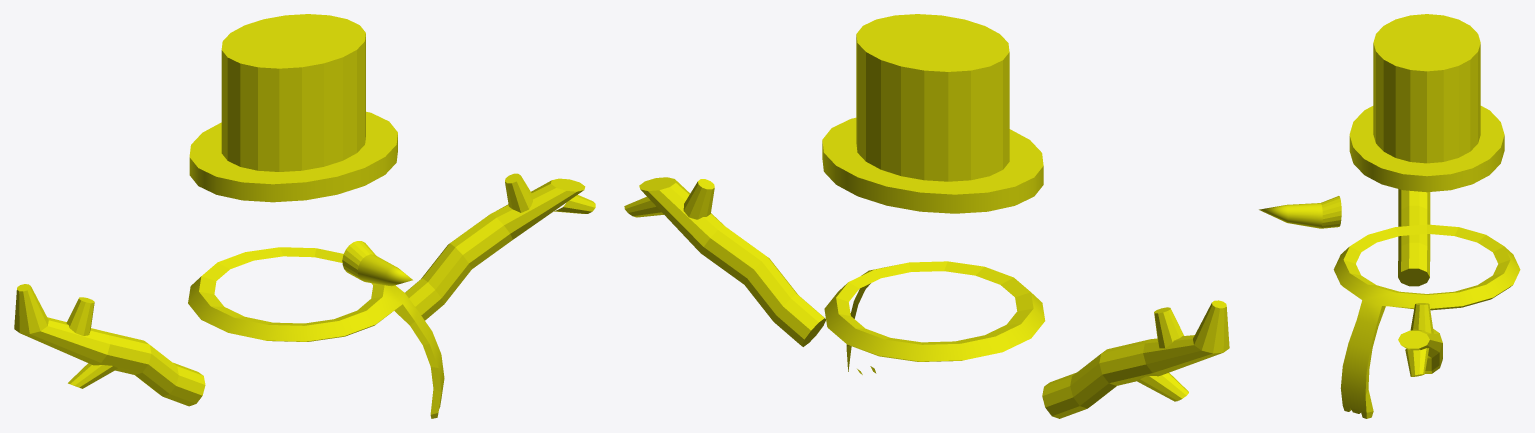
3 views of the same model, side by side, from view 1: azimuth 30°, elevation 25°; view 2: azimuth 150°, elevation 25°; view 3: azimuth 270°, elevation 25° (orthographic). The views are drawn at different scales.
Parts seen in each view (by area): view 1: hat, scarf, hand_R, hand_L, nose; view 2: hat, hand_L, hand_R, scarf; view 3: hat, scarf, hand_R, hand_L, nose.
Boxes of the visible parts, x1,y1,x2,y2 form: hat: [189, 14, 397, 202]; scarf: [188, 247, 444, 418]; hand_R: [14, 284, 205, 406]; hand_L: [405, 173, 595, 320]; nose: [342, 241, 412, 286]; hat: [822, 14, 1043, 213]; hand_L: [624, 177, 825, 346]; hand_R: [1042, 300, 1229, 418]; scarf: [824, 261, 1045, 374]; hat: [1349, 14, 1504, 192]; scarf: [1333, 224, 1520, 418]; hand_R: [1398, 189, 1430, 286]; hand_L: [1398, 303, 1442, 376]; nose: [1259, 196, 1341, 228].
Bounding box in the file's own units: 0.076 × 0.0467 × 0.0339.
Materials: 1 (1 with a texture image).
